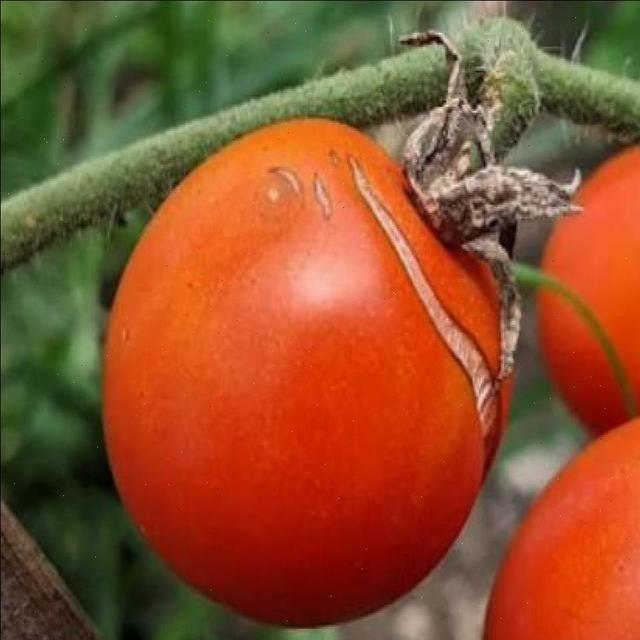Cracking Fruit: (51, 67, 286, 196)
